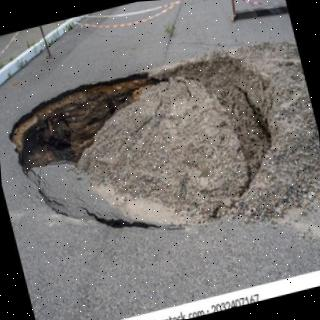pothole: (9, 51, 272, 230)
